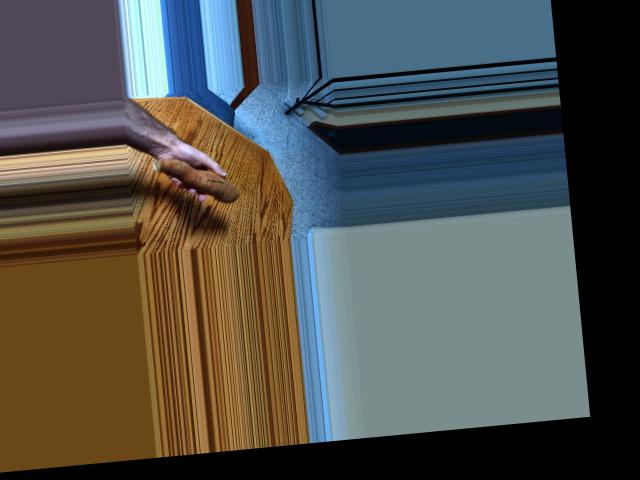sweet_potato: (150, 145, 242, 210)
